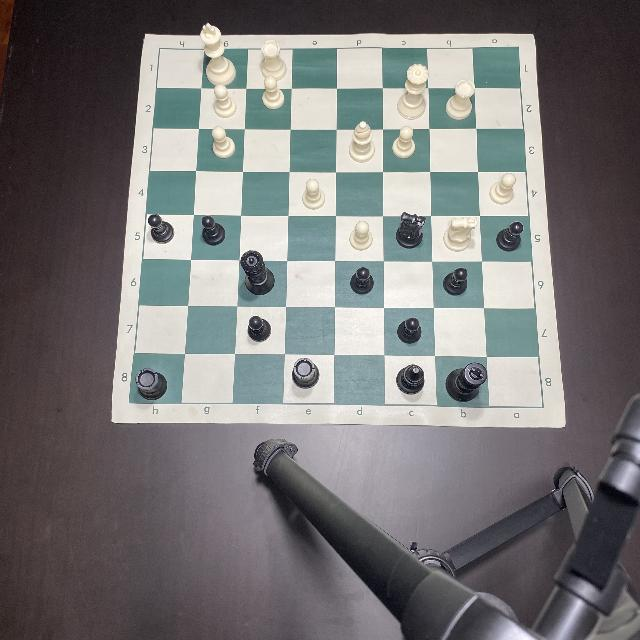black-bishop: (396, 362, 426, 393)
black-king: (445, 362, 487, 403)
black-knight: (396, 212, 426, 248)
black-pawn: (496, 222, 524, 250), (201, 216, 225, 247), (148, 214, 174, 242), (248, 314, 272, 342), (444, 267, 468, 295), (351, 267, 375, 295), (398, 317, 422, 343)
black-queen: (240, 250, 274, 294)
black-rook: (136, 368, 168, 400), (292, 357, 320, 388)
board: (111, 33, 566, 427)
white-bishop: (349, 120, 375, 162)
white-king: (202, 23, 236, 86)
white-knight: (444, 214, 476, 252)
white-pawn: (489, 172, 516, 204), (212, 126, 236, 158), (263, 75, 285, 109), (214, 84, 236, 118), (393, 125, 415, 158), (302, 179, 326, 209), (351, 220, 374, 250)
white-queen: (398, 64, 427, 118)
white-rook: (446, 80, 474, 120), (261, 40, 287, 80)
